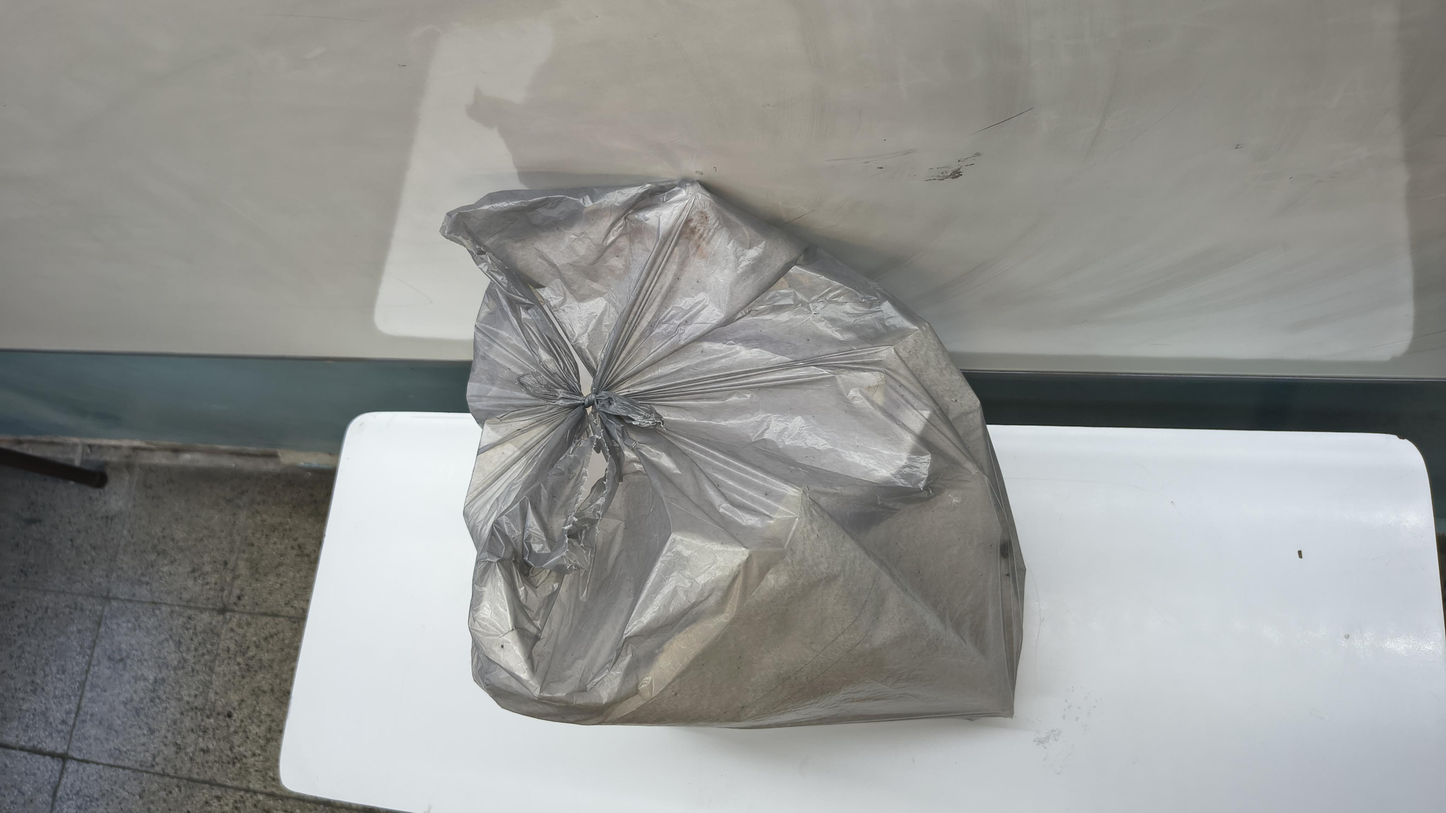Garbage: (50, 216, 1268, 615)
